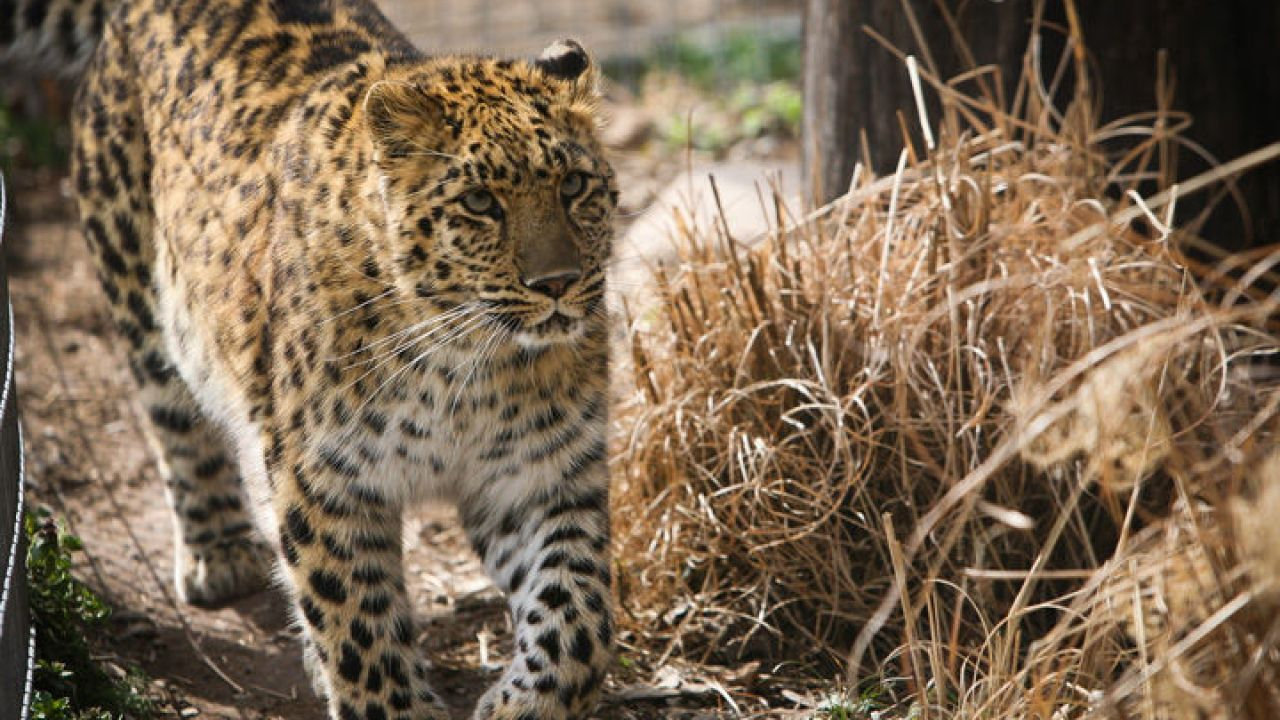amur_leopard: (48, 8, 653, 698)
